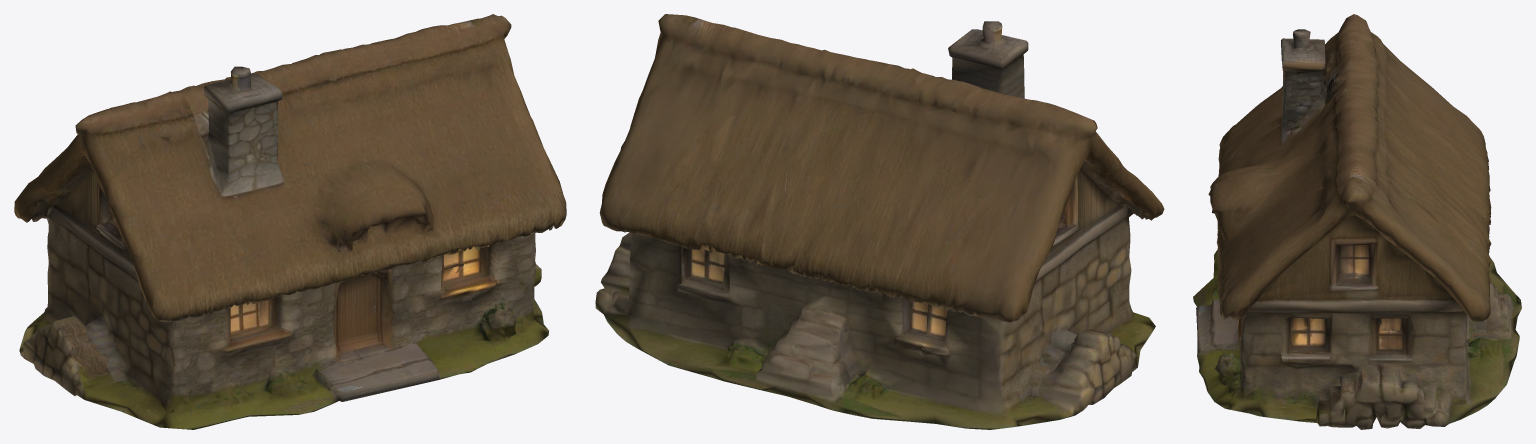
Rendered from house-t3.glb.
The picture shows the model from 3 angles, left to right: view 1: azimuth 30°, elevation 25°; view 2: azimuth 150°, elevation 25°; view 3: azimuth 270°, elevation 25°; orthographic projection. The views are drawn at different scales.
Parts seen in each view (by area): view 1: Mesh1.0; view 2: Mesh1.0; view 3: Mesh1.0.
Boxes of the visible parts, x1,y1,x2,y2 form: Mesh1.0: (14,14,566,429); Mesh1.0: (595,14,1164,429); Mesh1.0: (1193,14,1521,429).
Bounding box in the file's own units: 1.99 × 1.25 × 1.38.
Materials: 1 (1 with a texture image).
